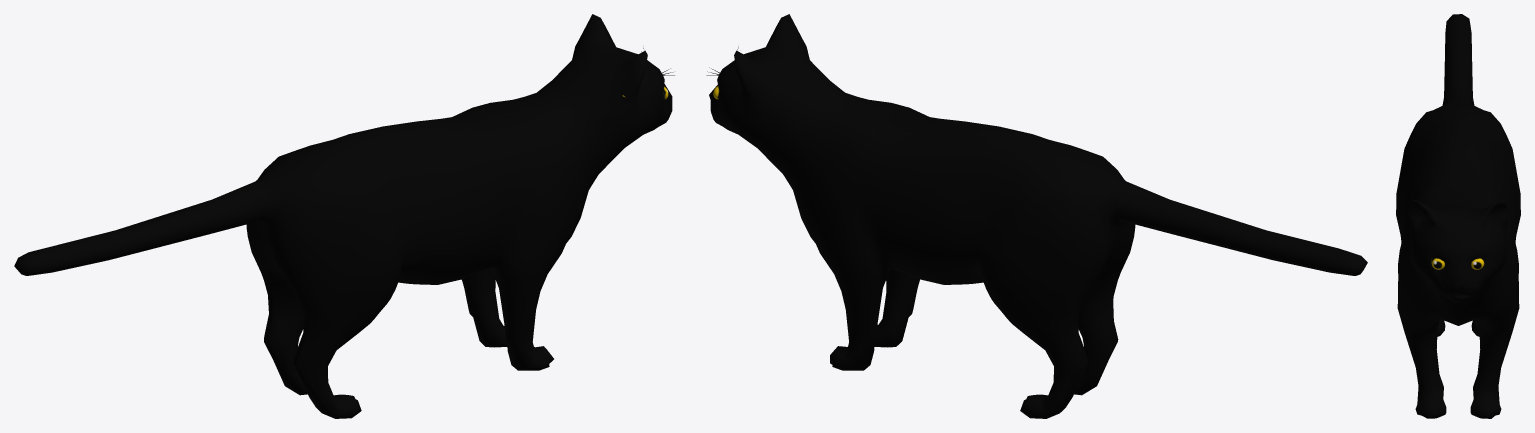
The model's file is blackpolycat.glb.
The picture shows the model from 3 angles, left to right: view 1: azimuth 30°, elevation 25°; view 2: azimuth 150°, elevation 25°; view 3: azimuth 270°, elevation 25°; orthographic projection. The views are drawn at different scales.
Parts seen in each view (by area): view 1: cat; view 2: cat; view 3: cat.
Boxes of the visible parts, x1,y1,x2,y2 form: cat: (14, 14, 674, 418); cat: (706, 14, 1367, 418); cat: (1396, 14, 1520, 418).
Bounding box in the file's own units: 23.49 × 10.21 × 4.45.
Materials: 1 (1 with a texture image).
